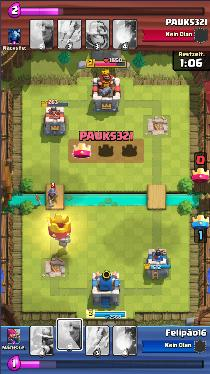ally_mini_pekka: (55, 236, 71, 248)
enemy_musketeer: (46, 189, 57, 207)
